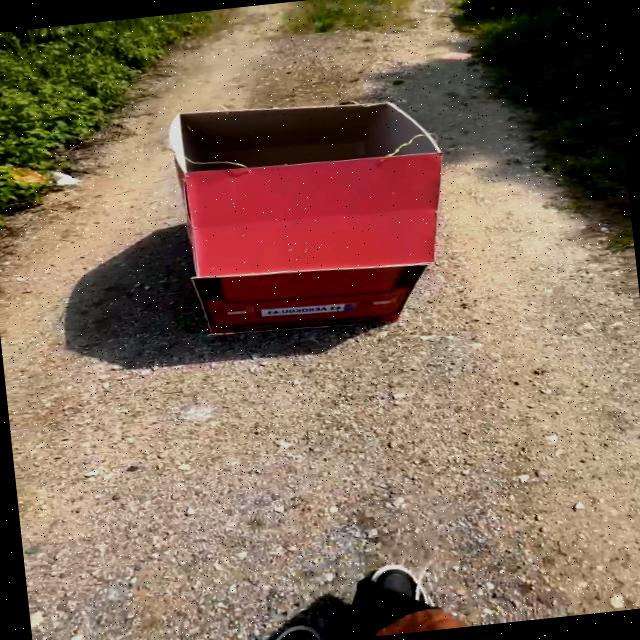red_car: (142, 64, 504, 371)
